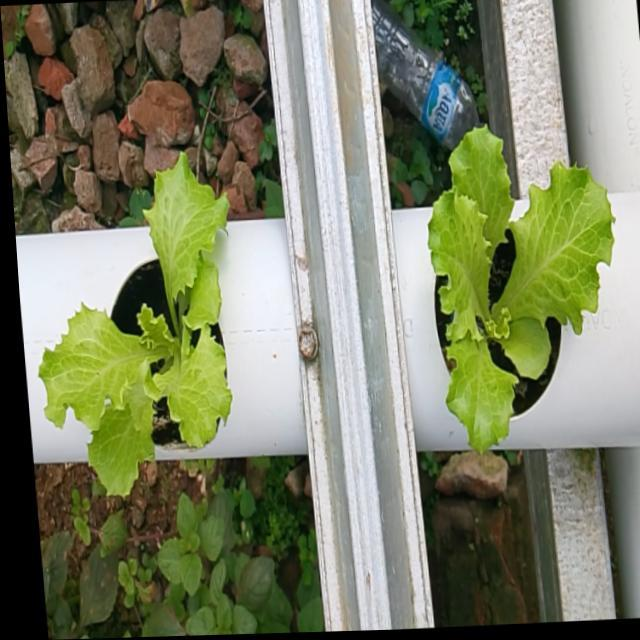Baby: (33, 160, 227, 505), (423, 131, 611, 460)
